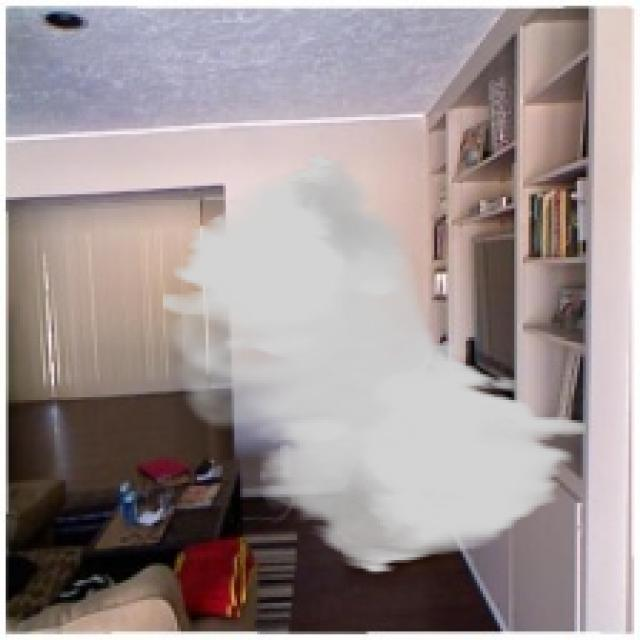smoke: (160, 152, 586, 574)
